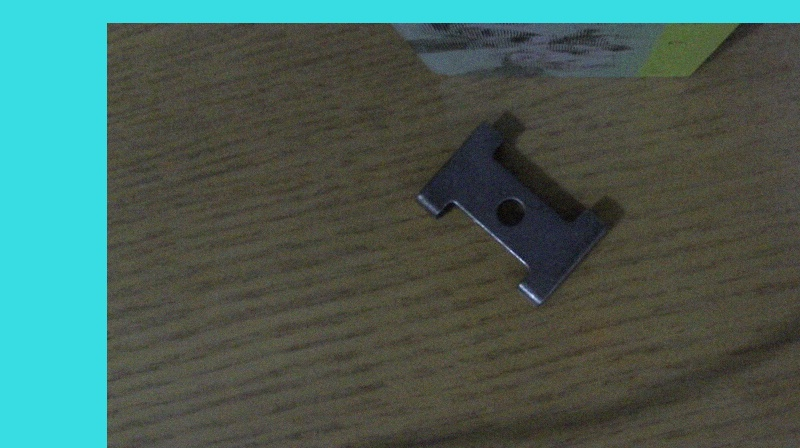O002: (411, 113, 613, 309)
